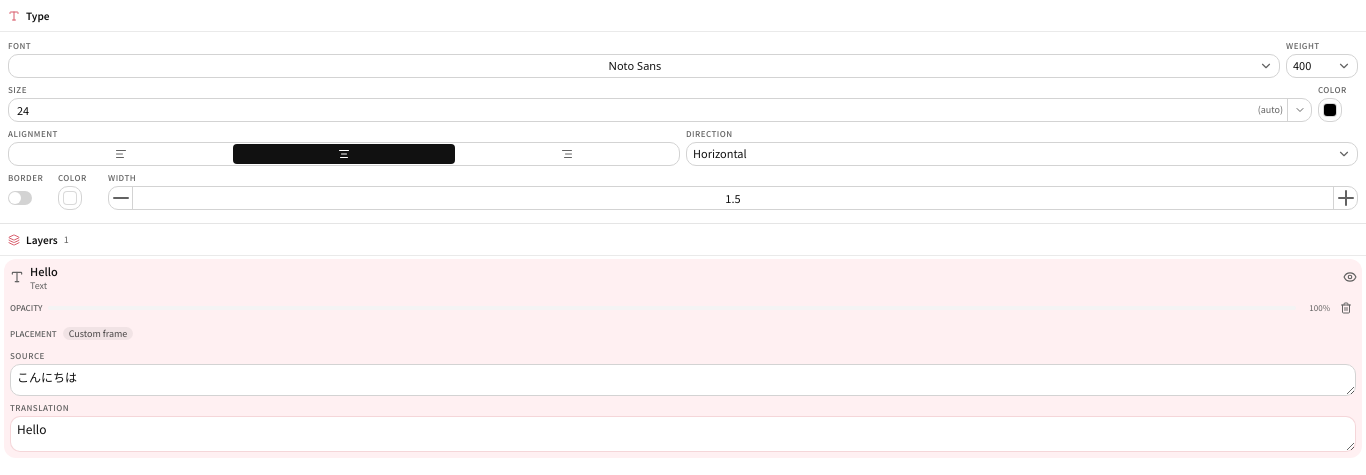
Test: greenfield editor › only offers weights available for the selected font family
Click the dropdown named "Font weight" at (1322, 66), box [1286,54,1358,78]
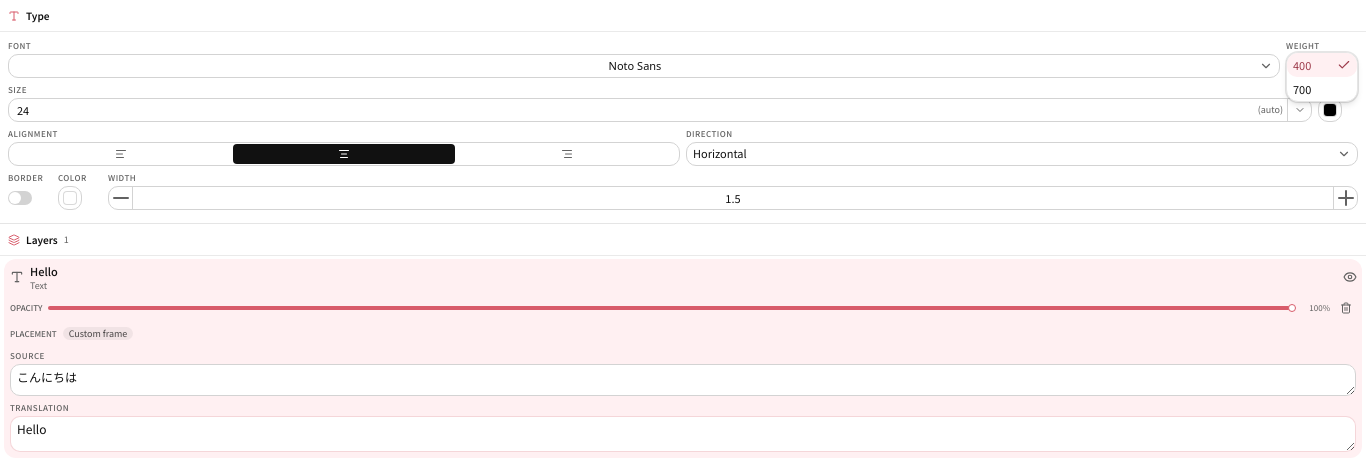
Expected: the option "400" is shown, [1287,53,1357,77]
Expected: the option "700" is shown, [1293,81,1311,97]
